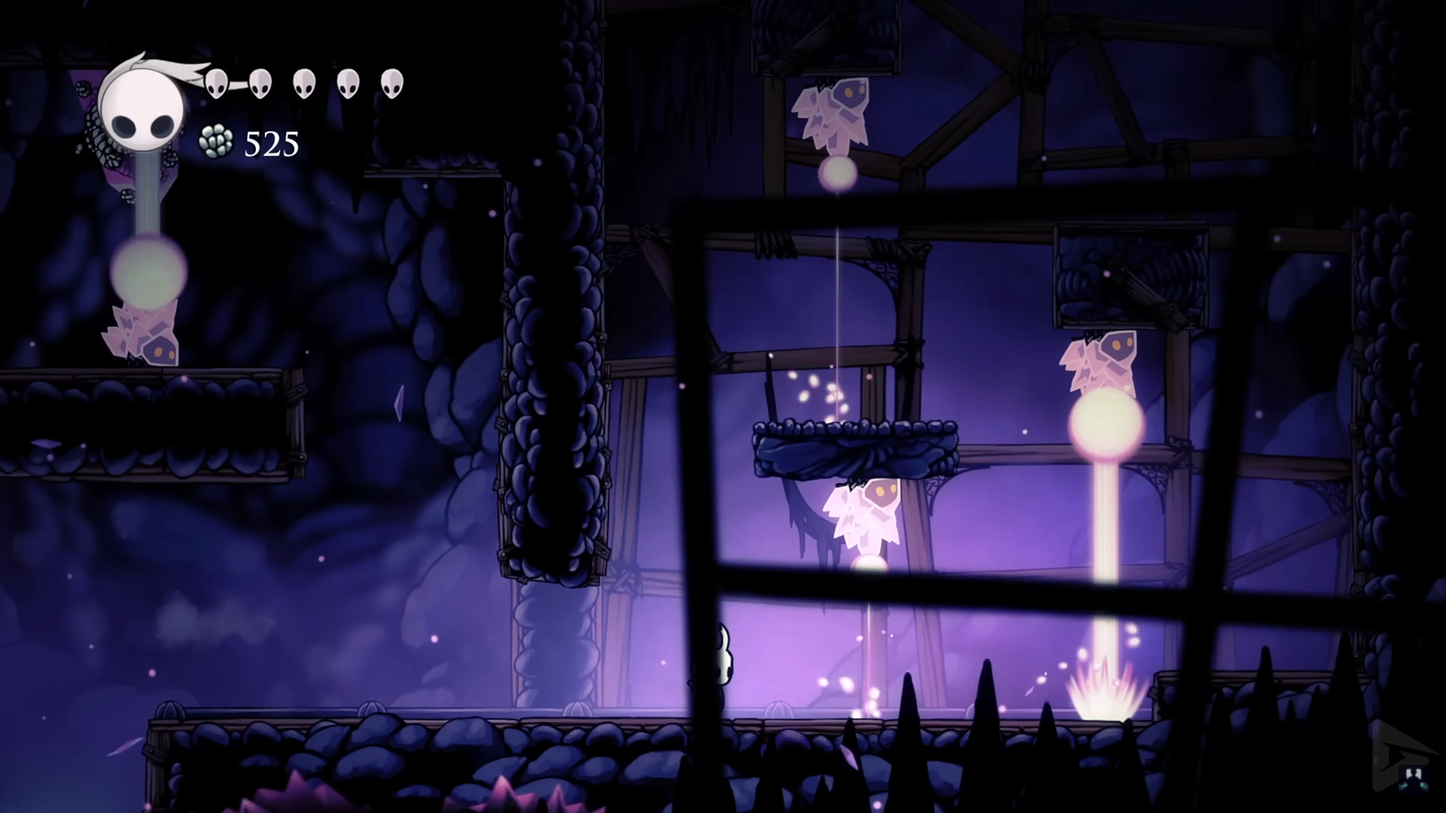HK: (687, 620, 737, 720)
